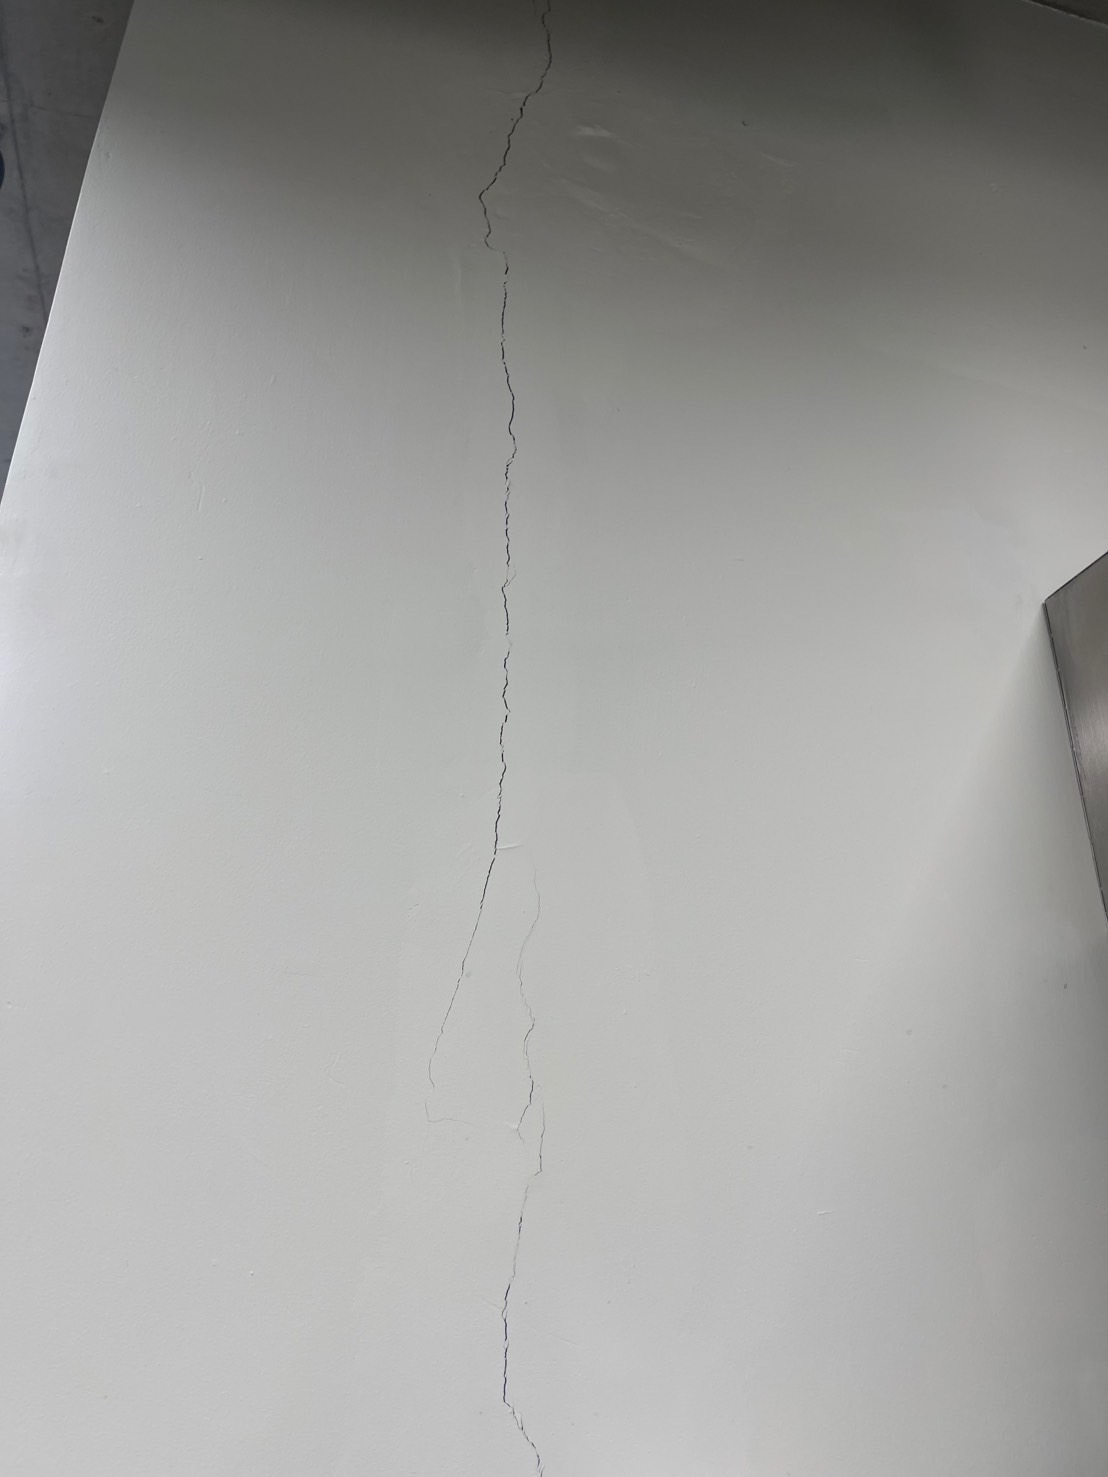Low: (427, 12, 684, 1475)
